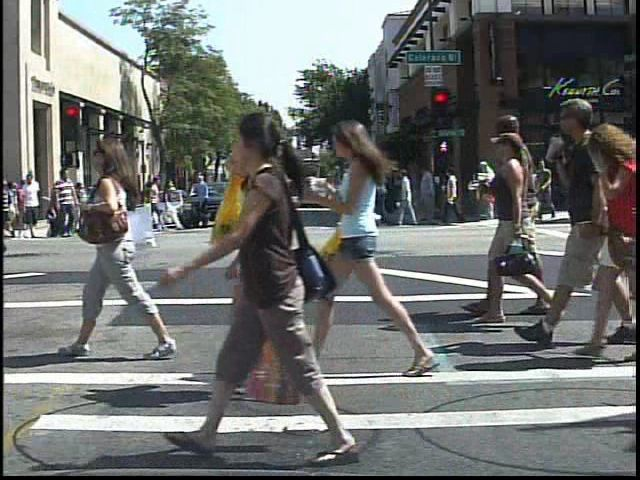person: (192, 105, 369, 470), (209, 116, 343, 398), (315, 109, 443, 383), (73, 125, 178, 366), (534, 80, 609, 352), (97, 160, 131, 241), (51, 164, 81, 242), (18, 170, 43, 242), (475, 157, 500, 224), (99, 178, 119, 221), (163, 175, 182, 212)
